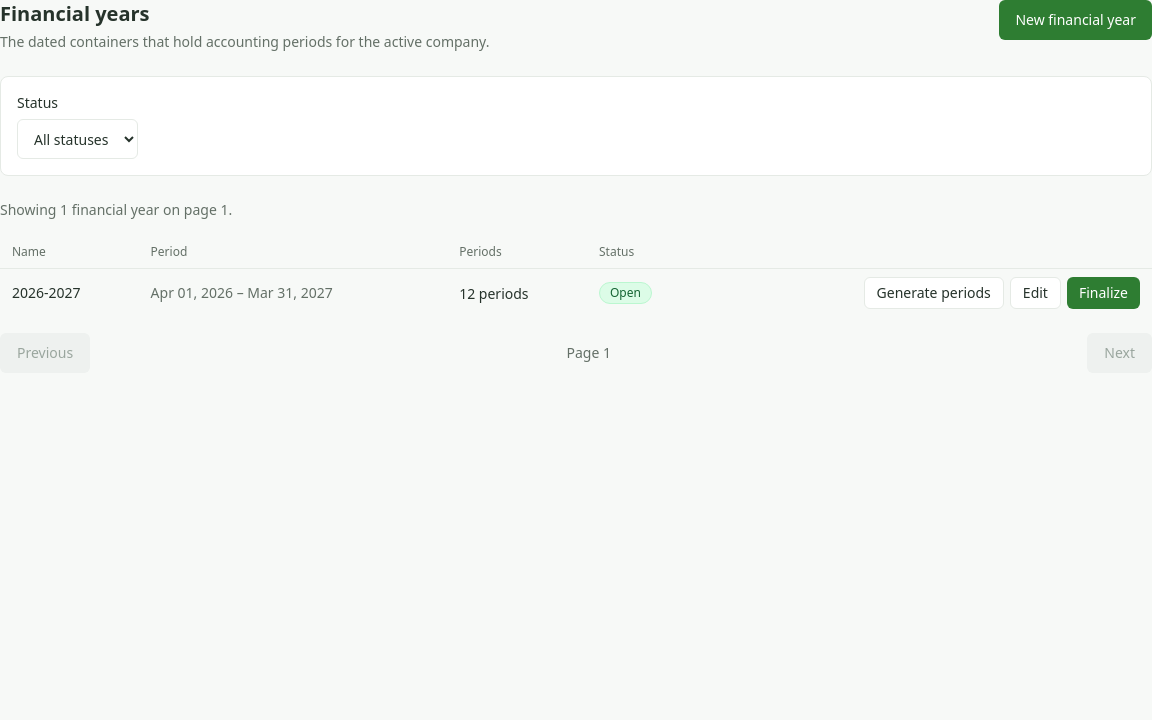
Test: FinancialYearsView › opens the create dialog from the header action
Click the button "New financial year". click: (1076, 20)
box: top-left (999, 0), bottom-right (1151, 40)
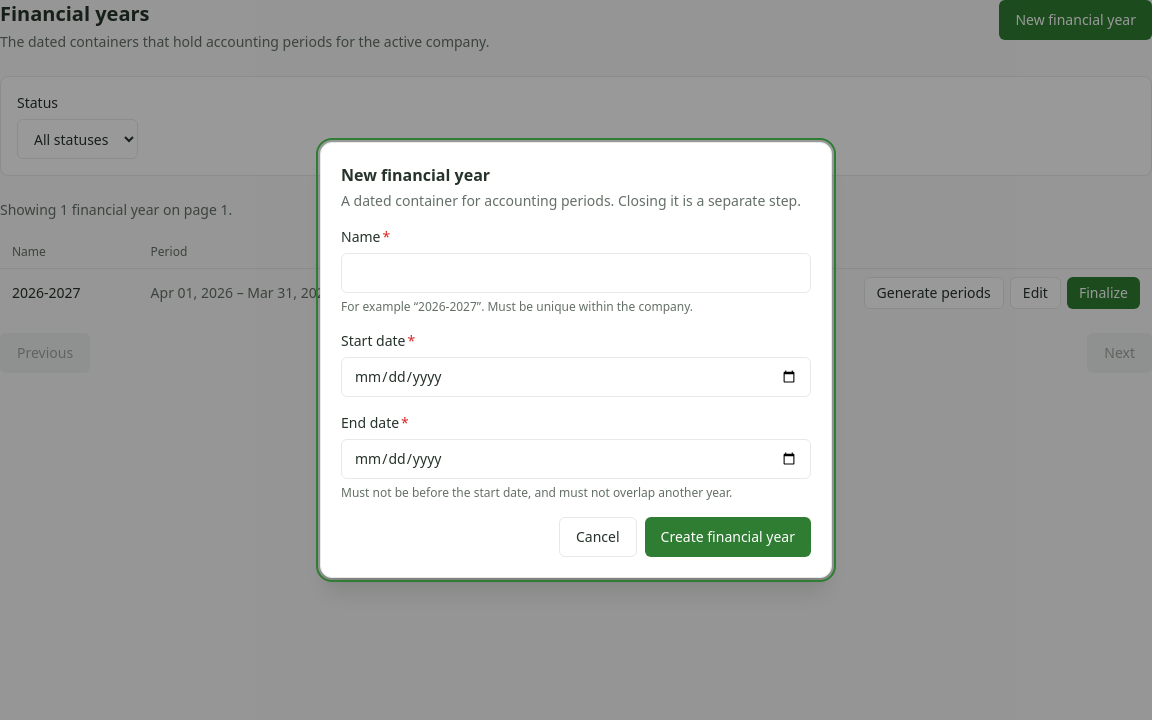
Check: the dialog "New financial year" is shown, box top-left (320, 142), bottom-right (832, 578)
